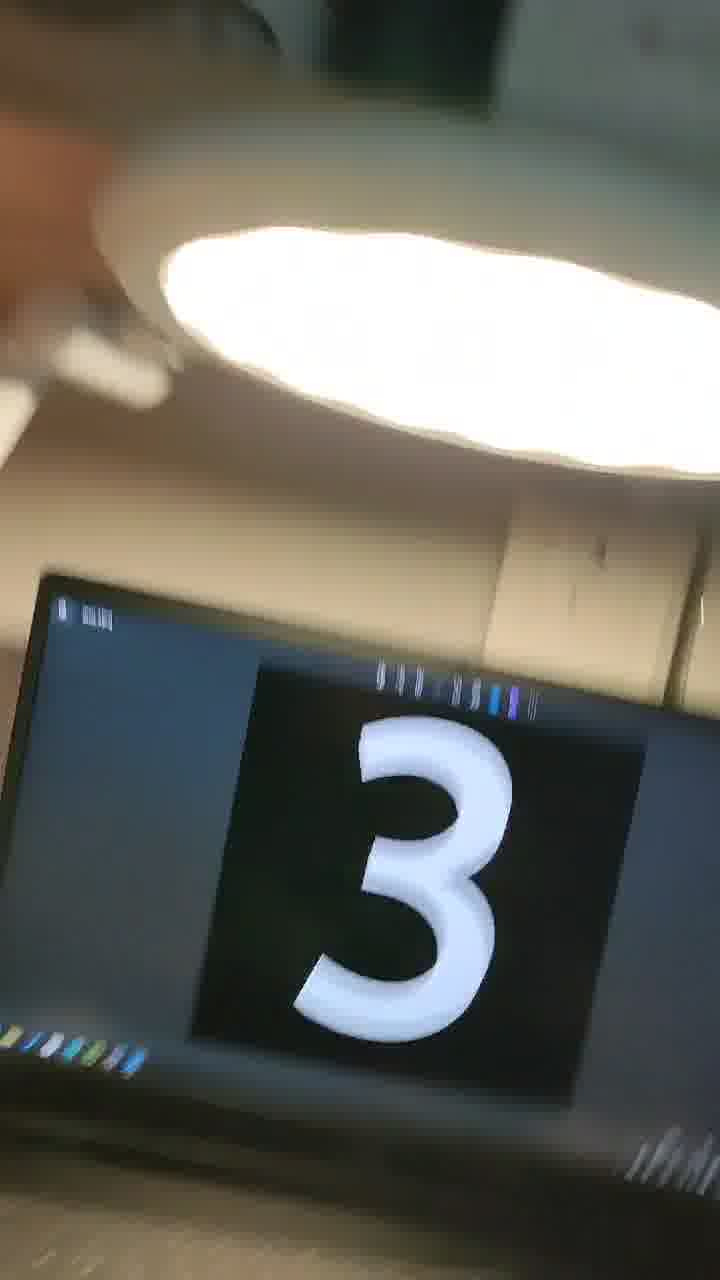three: (196, 612, 586, 1091)
